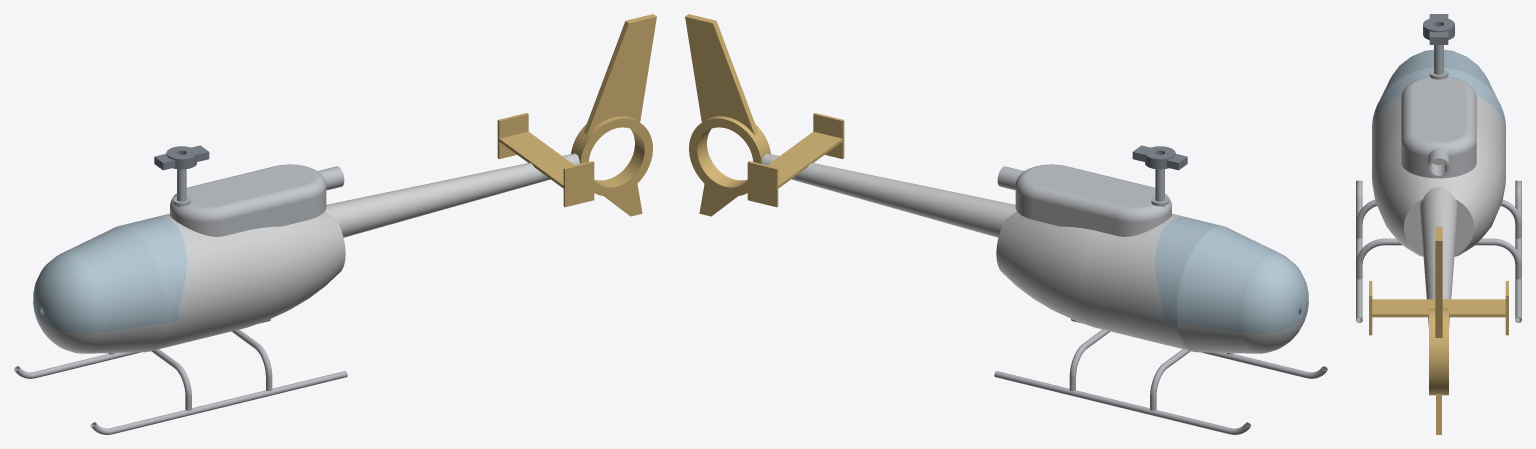
The model's file is step_52.glb.
The picture shows the model from 3 angles, left to right: view 1: azimuth 30°, elevation 25°; view 2: azimuth 150°, elevation 25°; view 3: azimuth 270°, elevation 25°; orthographic projection. The views are drawn at different scales.
Visible parts, largest first — view 1: part__fuselage, part__canopy glazing, part__engine cowling, part__fin and fan duct, part__tail boom, part__horizontal stabiliser, part__skid left, part__main rotor hub, part__skid right; view 2: part__fuselage, part__canopy glazing, part__engine cowling, part__fin and fan duct, part__tail boom, part__horizontal stabiliser, part__skid right, part__main rotor hub, part__skid left; view 3: part__fuselage, part__engine cowling, part__tail boom, part__canopy glazing, part__horizontal stabiliser, part__fin and fan duct, part__cross tube rear, part__main rotor hub, part__skid right, part__skid left, part__cross tube front, part__main rotor mast.
Part boxes in pixels (x1,y1,x2,y2): part__fuselage: [35, 211, 345, 353]; part__canopy glazing: [33, 217, 186, 333]; part__engine cowling: [170, 164, 344, 236]; part__fin and fan duct: [571, 14, 656, 216]; part__tail boom: [325, 153, 579, 237]; part__horizontal stabiliser: [497, 113, 594, 207]; part__skid left: [90, 371, 347, 434]; part__main rotor hub: [154, 145, 209, 170]; part__skid right: [14, 319, 270, 378]; part__fuselage: [996, 211, 1306, 353]; part__canopy glazing: [1155, 217, 1308, 333]; part__engine cowling: [997, 164, 1171, 236]; part__fin and fan duct: [685, 14, 770, 216]; part__tail boom: [762, 153, 1016, 237]; part__horizontal stabiliser: [747, 113, 844, 207]; part__skid right: [994, 371, 1251, 434]; part__main rotor hub: [1132, 145, 1187, 170]; part__skid left: [1071, 319, 1327, 378]; part__fuselage: [1372, 95, 1505, 256]; part__engine cowling: [1401, 76, 1476, 178]; part__tail boom: [1420, 187, 1457, 327]; part__canopy glazing: [1372, 49, 1505, 131]; part__horizontal stabiliser: [1369, 281, 1508, 335]; part__fin and fan duct: [1429, 226, 1448, 434]; part__cross tube rear: [1356, 238, 1521, 279]; part__main rotor hub: [1423, 14, 1454, 44]; part__skid right: [1515, 180, 1521, 322]; part__skid left: [1356, 180, 1362, 322]; part__cross tube front: [1356, 199, 1521, 238]; part__main rotor mast: [1429, 45, 1448, 79].
Size of the model in its own units: 8773 by 3400 by 1980.
